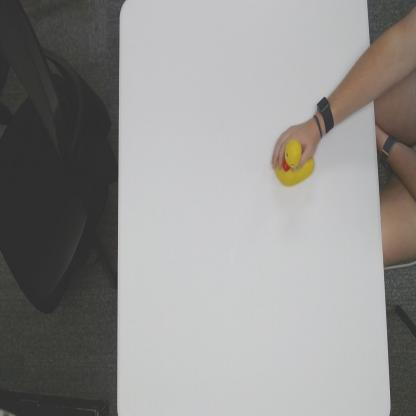Arm: (335, 45, 372, 126)
Duck: (272, 135, 316, 187)
Hand: (270, 112, 322, 172)
